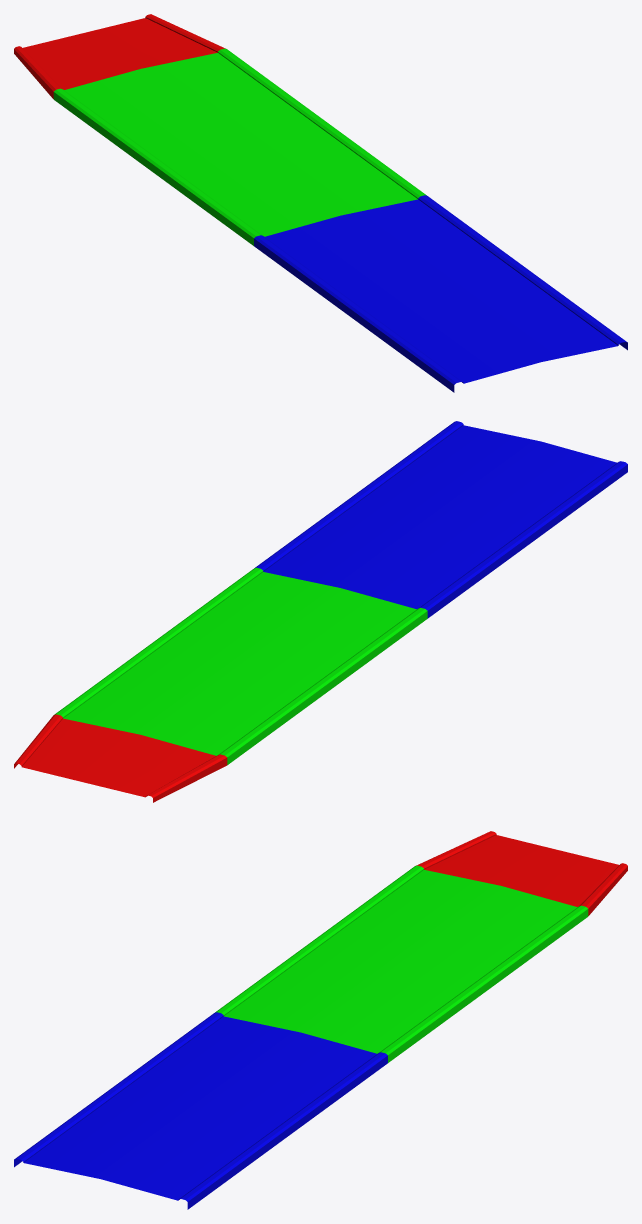
File: Big Road Final.fbx
3 views of the same model, one above another, from view 1: azimuth 30°, elevation 25°; view 2: azimuth 150°, elevation 25°; view 3: azimuth 330°, elevation 25° (orthographic).
Parts seen in each view (by area): view 1: Road_Part_1, Road_Part_2, Road_Part_Bridge; view 2: Road_Part_1, Road_Part_2, Road_Part_Bridge; view 3: Road_Part_1, Road_Part_2, Road_Part_Bridge.
Part boxes in pixels (left/top/right/bottom): Road_Part_1: left=254, top=195, right=627, bottom=392; Road_Part_2: left=53, top=48, right=426, bottom=245; Road_Part_Bridge: left=14, top=14, right=225, bottom=98; Road_Part_1: left=254, top=421, right=627, bottom=618; Road_Part_2: left=54, top=567, right=427, bottom=764; Road_Part_Bridge: left=14, top=714, right=227, bottom=802; Road_Part_1: left=14, top=1012, right=387, bottom=1209; Road_Part_2: left=215, top=865, right=588, bottom=1062; Road_Part_Bridge: left=416, top=831, right=627, bottom=915.
Bounding box in the file's own units: 8 × 0.4186 × 36.51.
